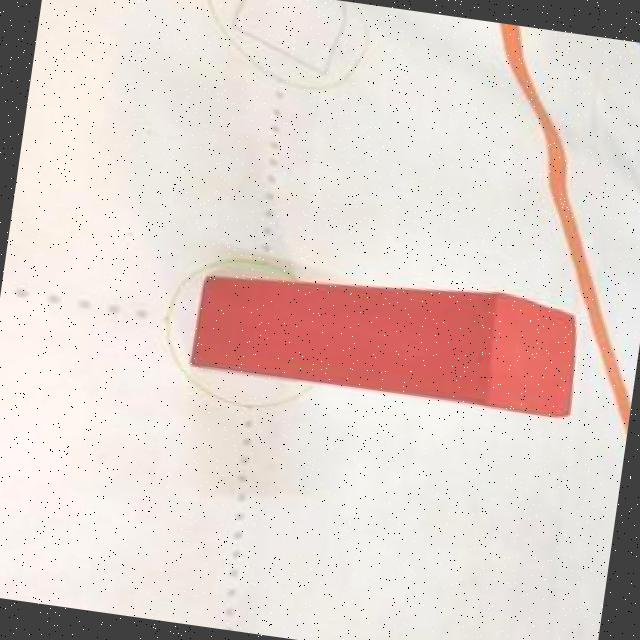redbox: (186, 249, 590, 422)
